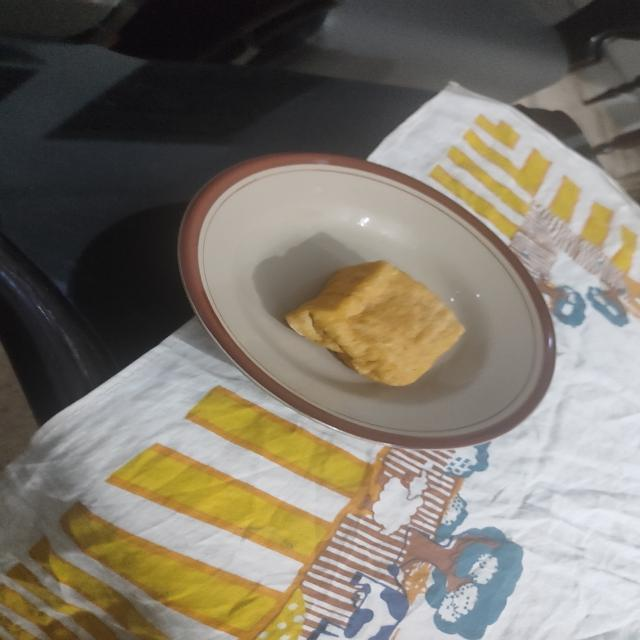tahu_goreng: (286, 261, 464, 386)
